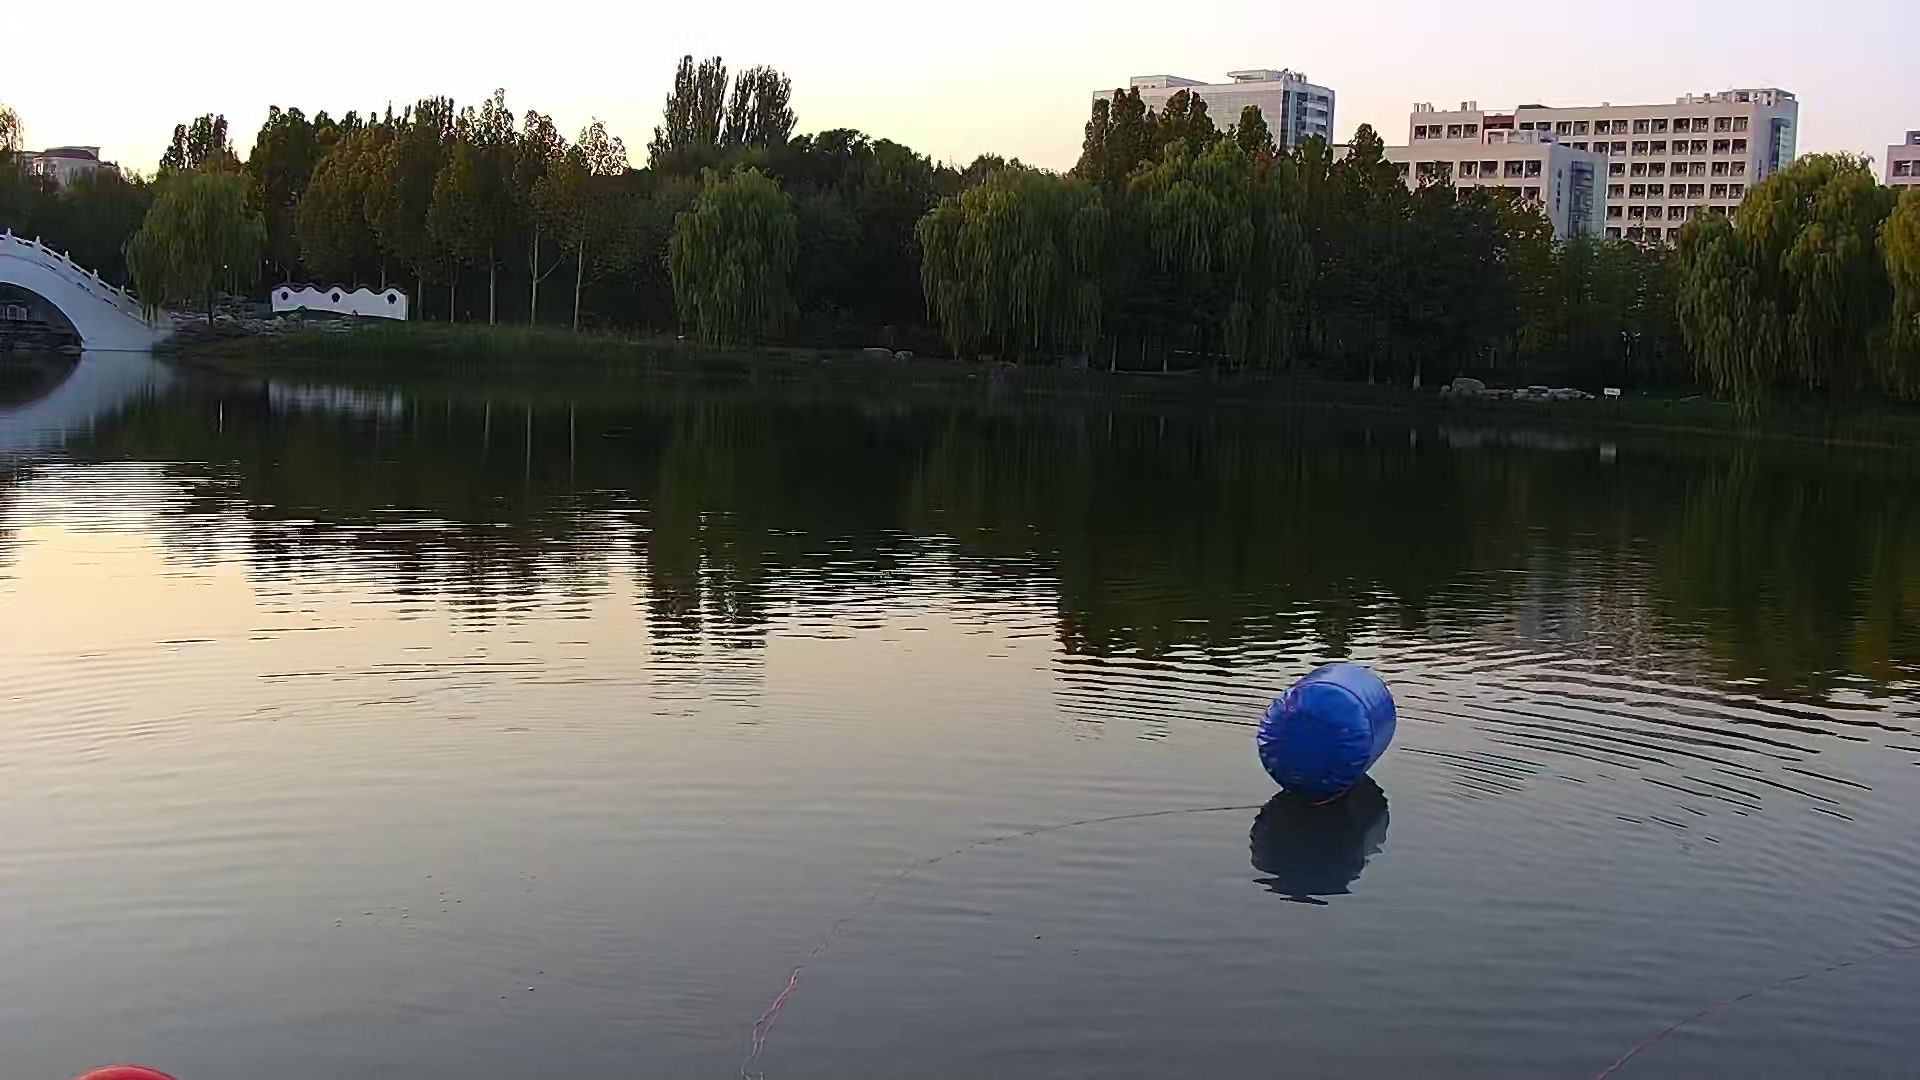rubbish: (1249, 644, 1400, 803)
